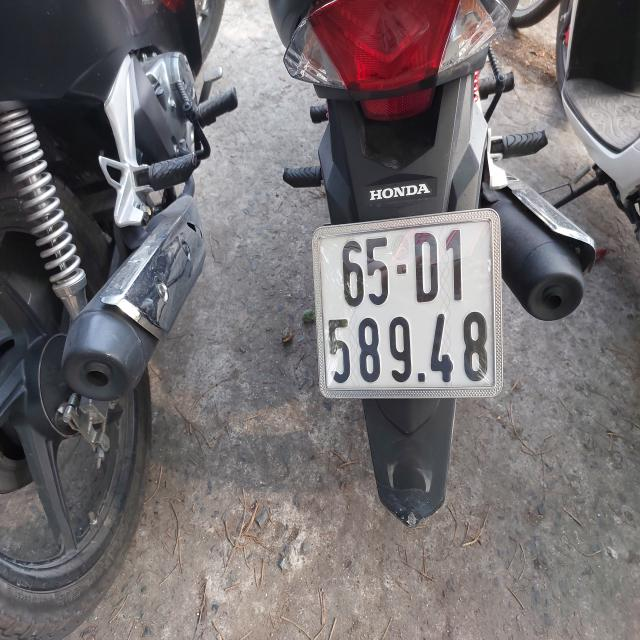1: (446, 230, 462, 300)
4: (430, 314, 454, 382)
5: (365, 238, 389, 306), (328, 318, 351, 382)
6: (341, 241, 364, 307)
8: (463, 311, 487, 380), (358, 318, 381, 383)
9: (388, 316, 412, 382)
D: (414, 230, 439, 303)
